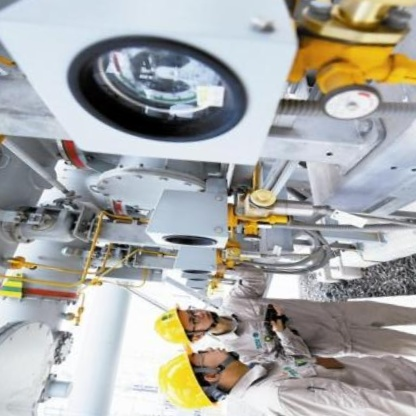yellow: (150, 334, 227, 415), (142, 292, 201, 348)
